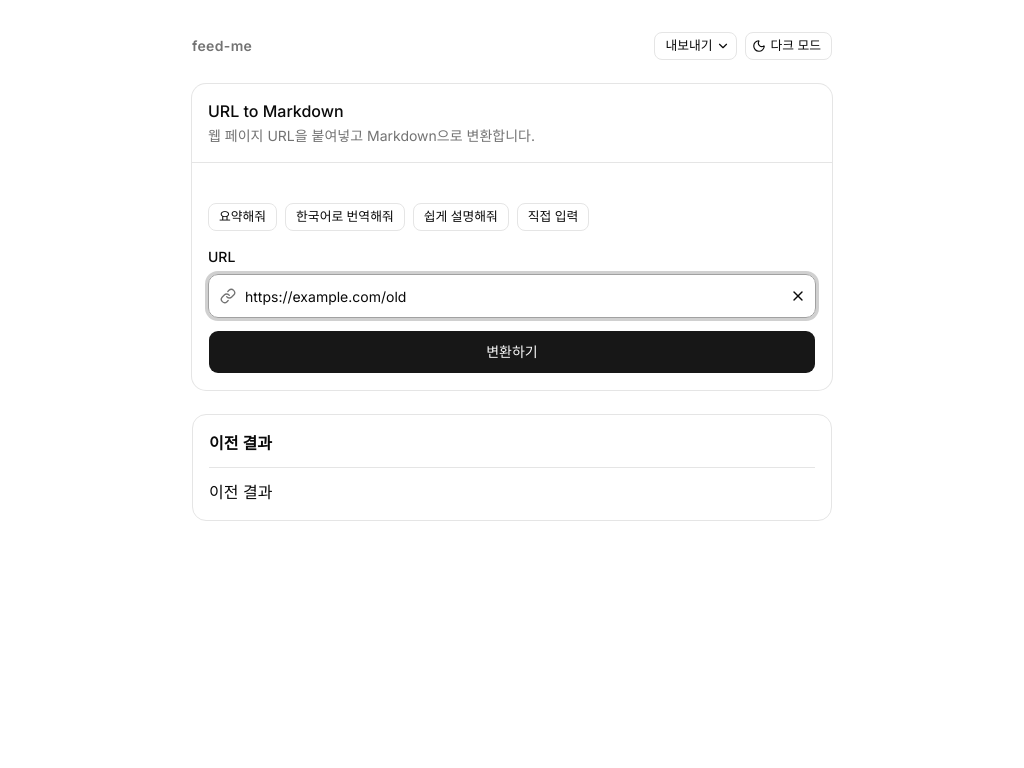
UrlToMarkdownPage conversion flow › clears stale results before a failed reconversion attempt
The image size is (1024, 768).
Replace the text in the field labelled "URL" with "https://example.com/new": (512, 296) [208,274,816,318]
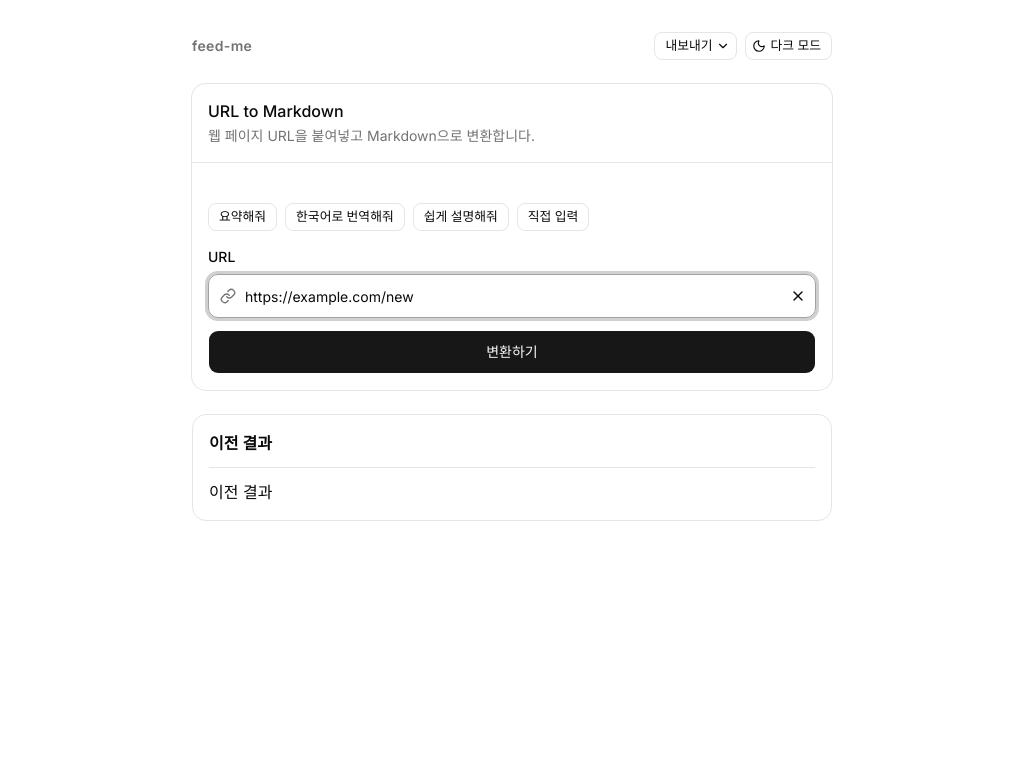
Click the button "변환하기": (512, 352) [208,330,816,374]
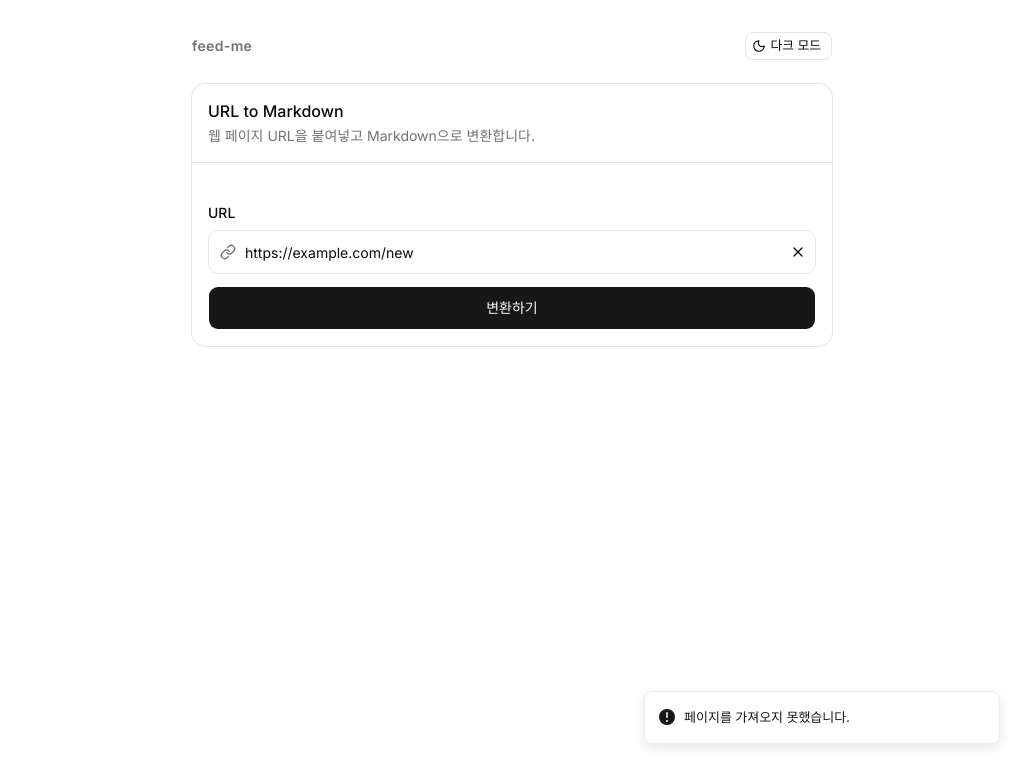
Result: the text "페이지를 가져오지 못했습니다." is shown at [684,708,850,727]
